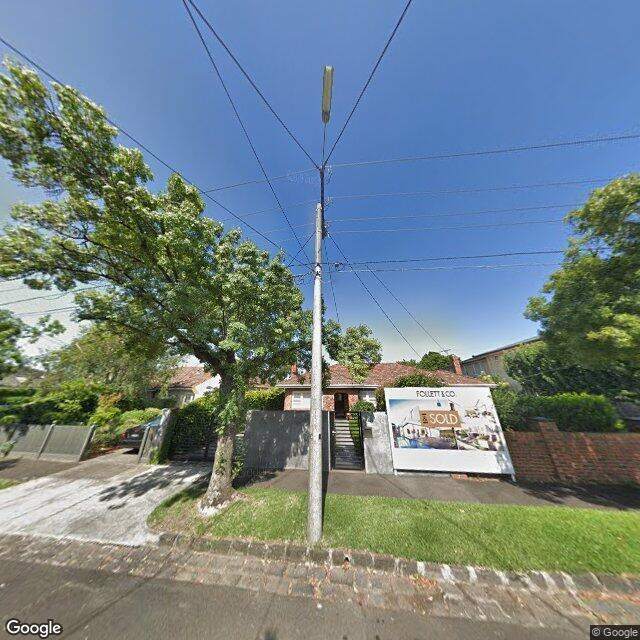concrete-pole: (306, 201, 324, 543)
streetlight: (321, 64, 334, 236)
